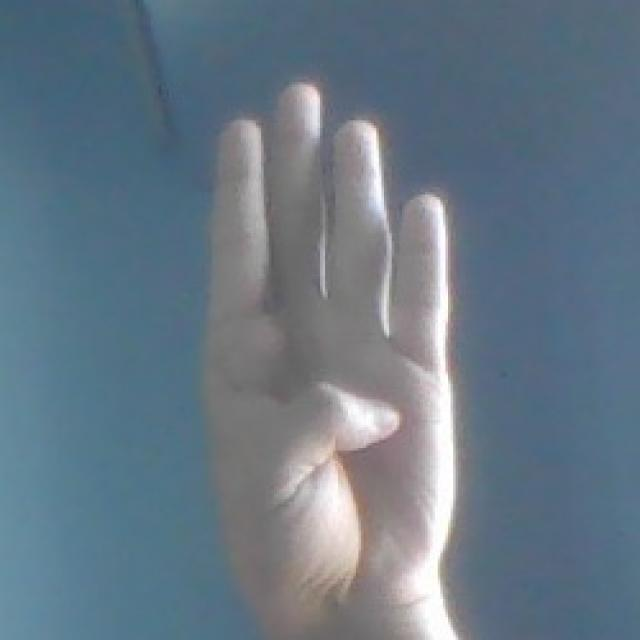Numeric-4: (208, 76, 456, 611)
